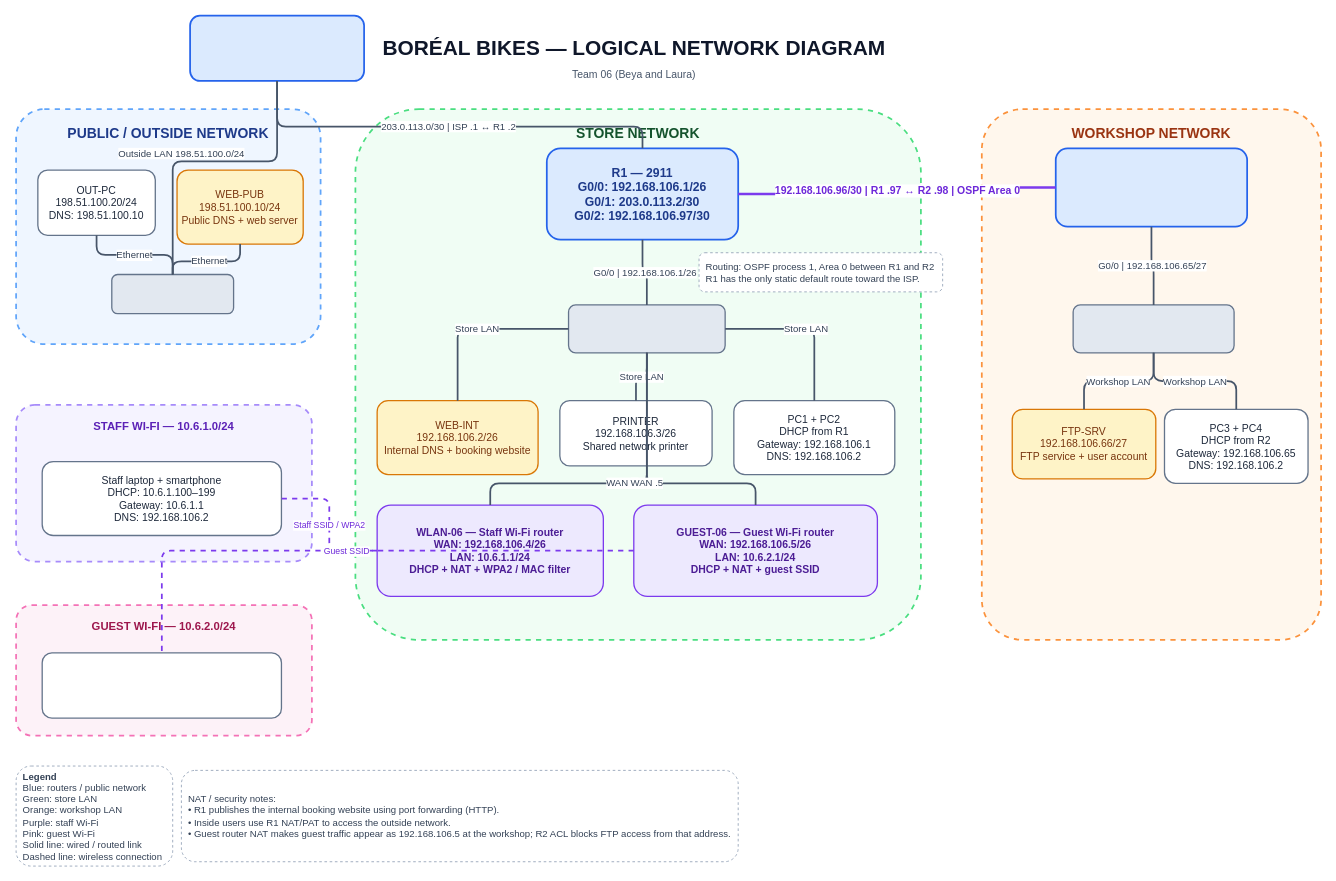
This 1336x881 diagram has some shape labels left out. The centre of each missing label's shape, as x and y in pixels:
"Guest tablet DHCP: 10.6.2.100–199 Gateway: 10.6.2.1 DNS: 192.168.106.2" goes at point 161,685.
"ISP Router G0/0: 198.51.100.1/24 G0/1: 203.0.113.1/30" goes at point 277,47.
"R2 — 1941 G0/0: 192.168.106.65/27 G0/1: 192.168.106.98/30" goes at point 1151,187.
"SW-ISP Outside LAN switch" goes at point 172,293.
"SW1 — Store switch Store LAN: 192.168.106.0/26" goes at point 646,328.
"SW2 — Workshop switch Workshop LAN: 192.168.106.64/27" goes at point 1153,328.
